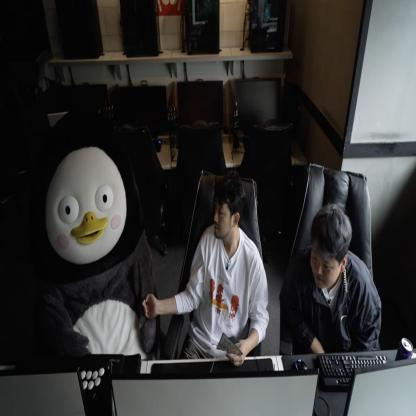streamer: (142, 171, 269, 367), (279, 204, 382, 354)
